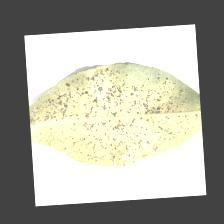canker: (78, 84, 149, 142)
